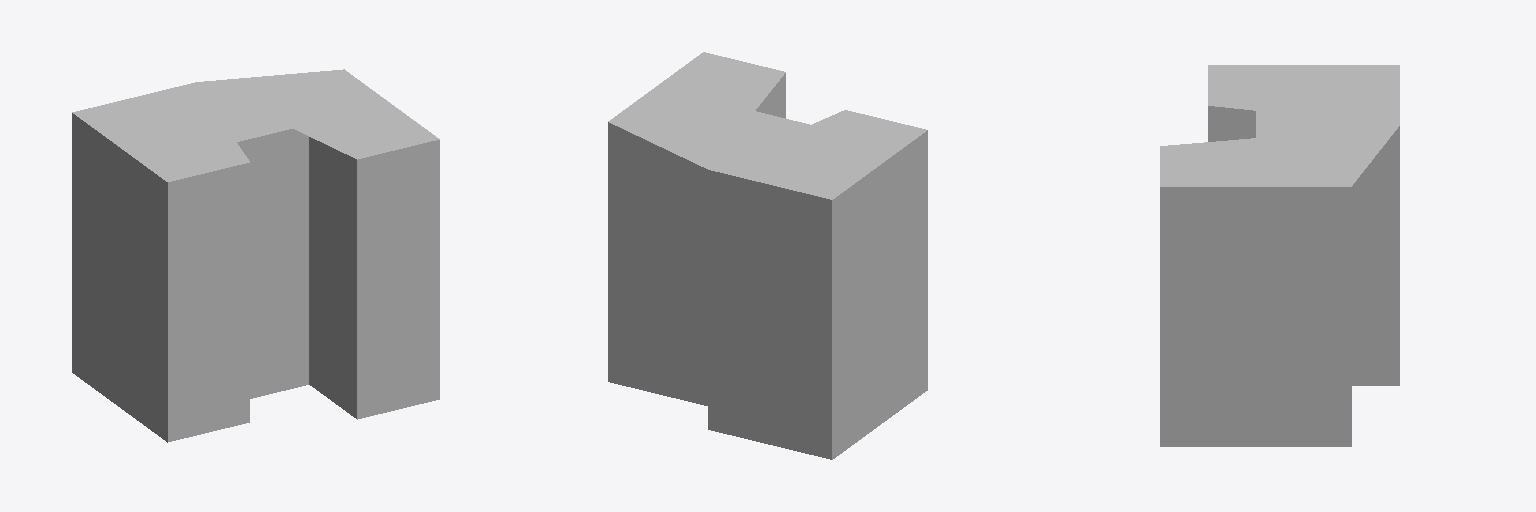
The model's file is Bulding #4 Hitbox.obj.
3 views of the same model, side by side, from view 1: azimuth 30°, elevation 25°; view 2: azimuth 150°, elevation 25°; view 3: azimuth 270°, elevation 25° (orthographic).
Parts seen in each view (by area): view 1: Base.001; view 2: Base.001; view 3: Base.001.
Boxes of the visible parts, x1=… form: Base.001: x1=72, y1=69, x2=439, y2=442; Base.001: x1=608, y1=52, x2=927, y2=459; Base.001: x1=1160, y1=65, x2=1399, y2=446.
Bounding box in the file's own units: 6 × 6 × 5.